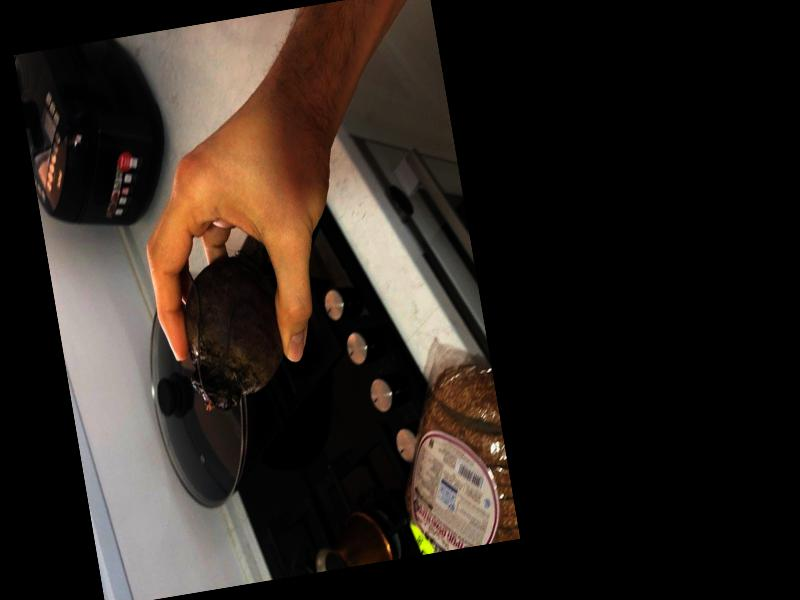Beet: (172, 241, 292, 415)
